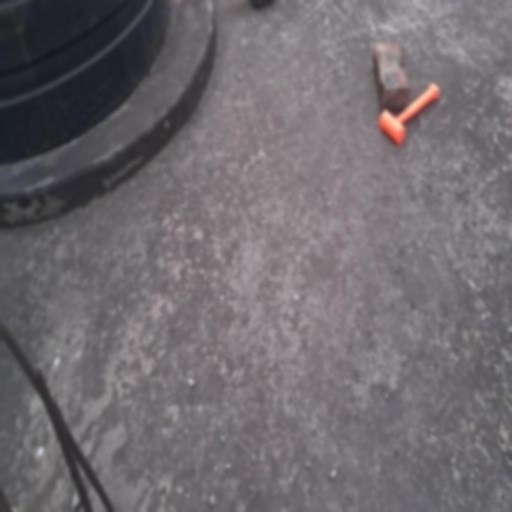mallet: (379, 82, 439, 144)
